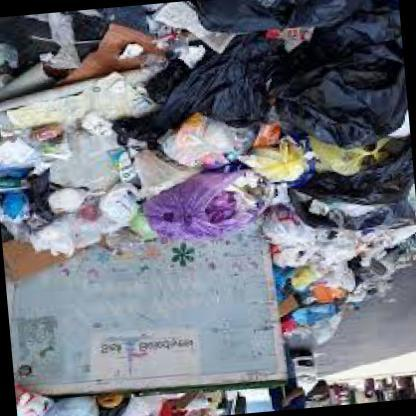Garbage: (0, 0, 321, 251), (0, 0, 271, 249), (262, 0, 415, 327), (16, 387, 230, 415)
